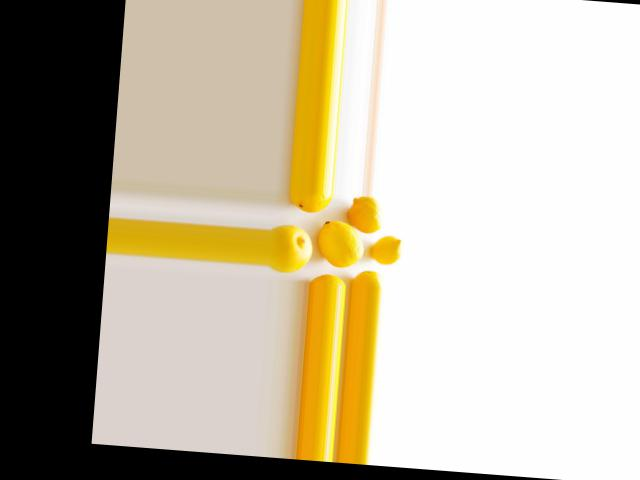lemon: (294, 190, 339, 218)
